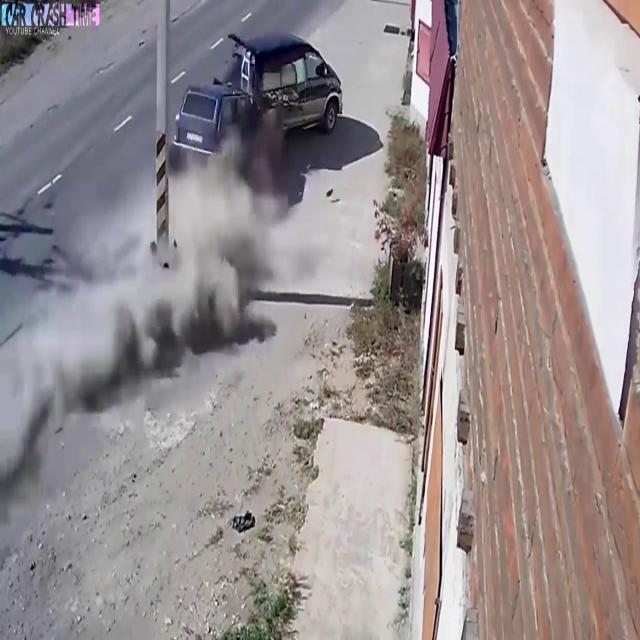accident: (156, 19, 349, 213)
